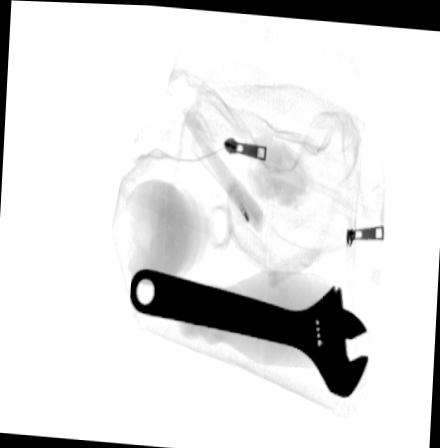Wrench: (127, 266, 370, 397)
